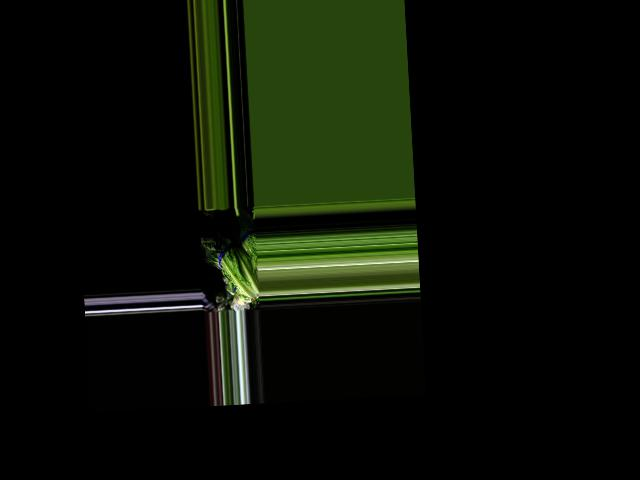lettuce: (203, 230, 259, 297)
